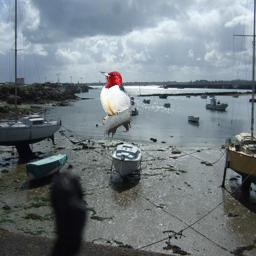Woodpecker: (98, 71, 133, 141)
